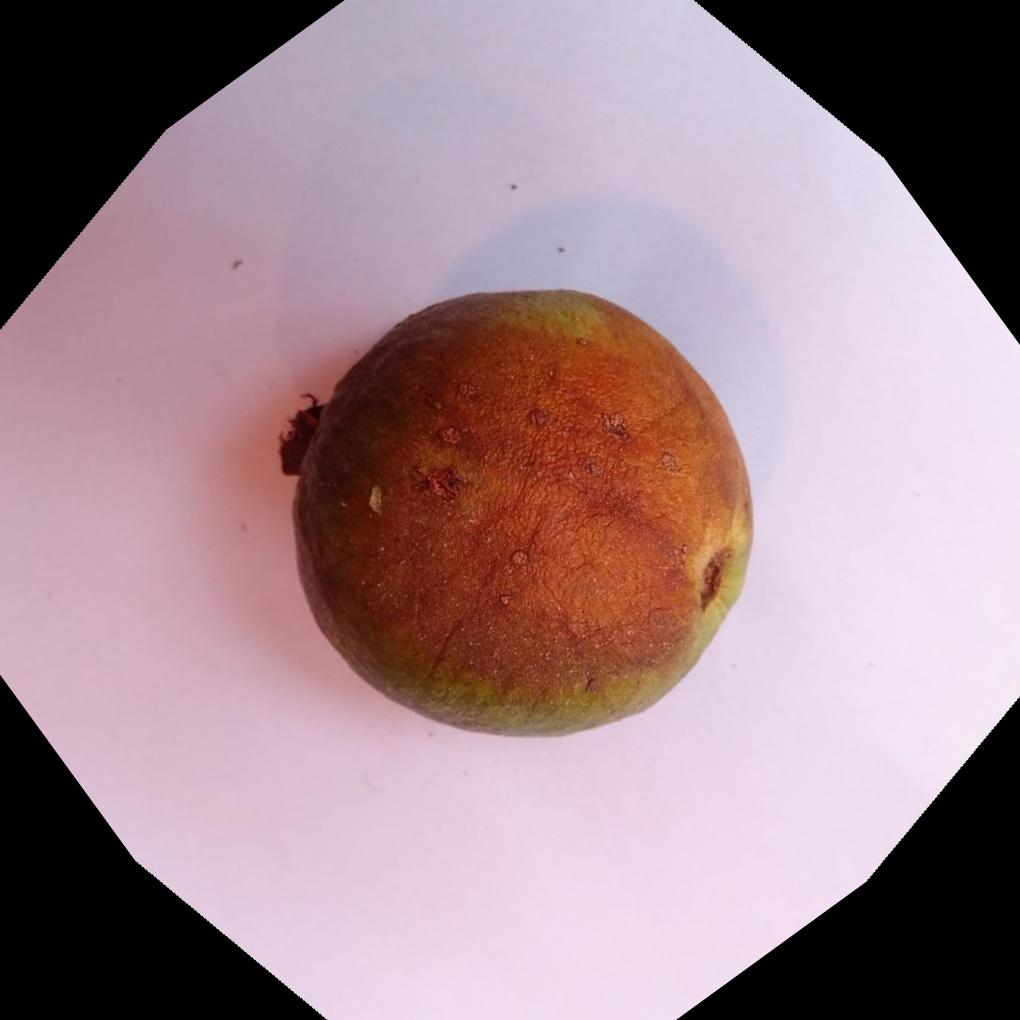FreshOrange: (278, 286, 754, 741)
